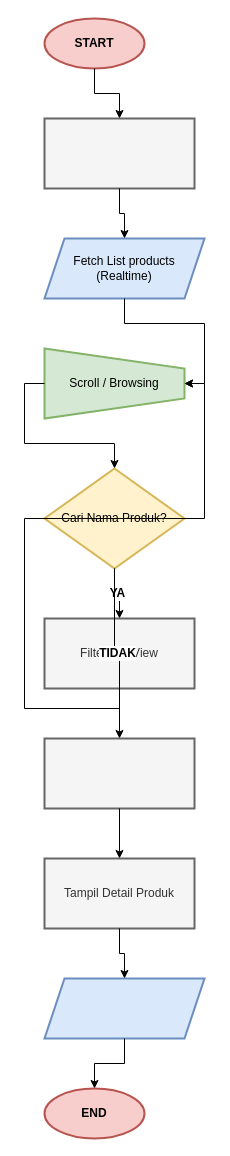
This 230x1156 diagram has some shape labels left out. The shapes that lost their labels are listed below. From the top down, each one's centre as x and y in pixels, then its label:
At pixel 119 153: "Buka Katalog Produk".
At pixel 119 773: "Klik Card Produk".
At pixel 124 1008: "Lihat Stok & Deskripsi".
